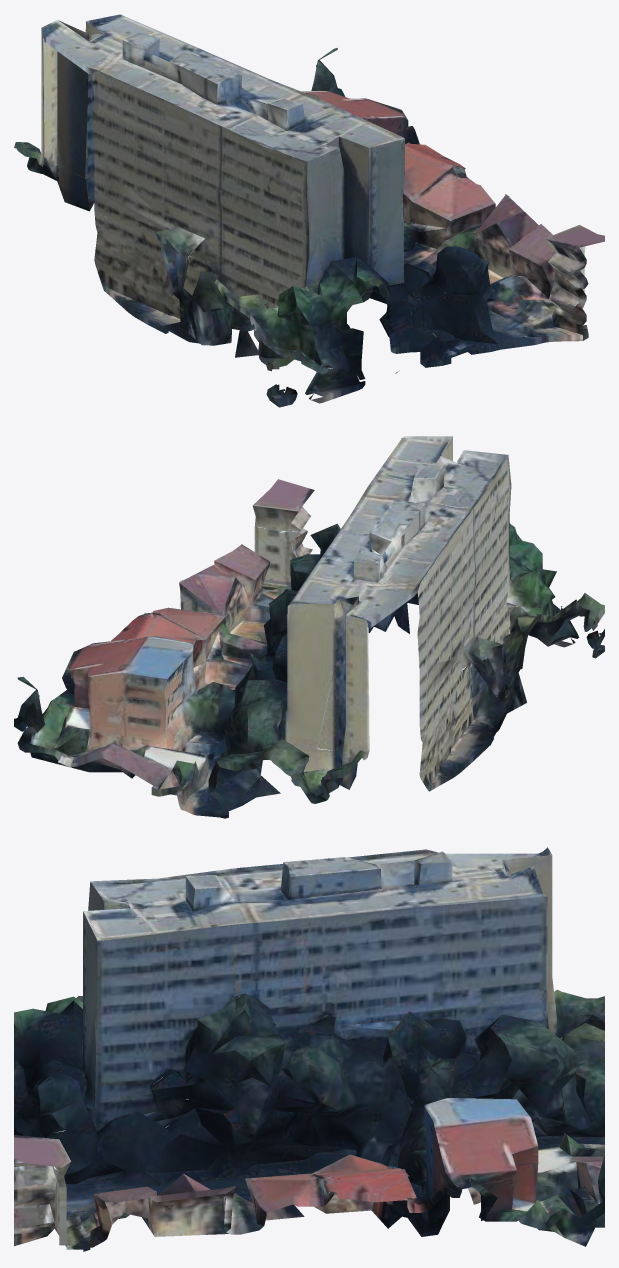
3 views of the same model, one above another, from view 1: azimuth 30°, elevation 25°; view 2: azimuth 150°, elevation 25°; view 3: azimuth 270°, elevation 25° (orthographic). The views are drawn at different scales.
Visible parts, largest first — view 1: 3043627270437041471_0; view 2: 3043627270437041471_0; view 3: 3043627270437041471_0.
Boxes of the visible parts, bbox=[...] form: 3043627270437041471_0: bbox=[14, 14, 604, 407]; 3043627270437041471_0: bbox=[14, 436, 604, 818]; 3043627270437041471_0: bbox=[14, 847, 604, 1251].
Bounding box in the file's own units: 54.96 × 37.91 × 76.53.
Materials: 1 (1 with a texture image).
